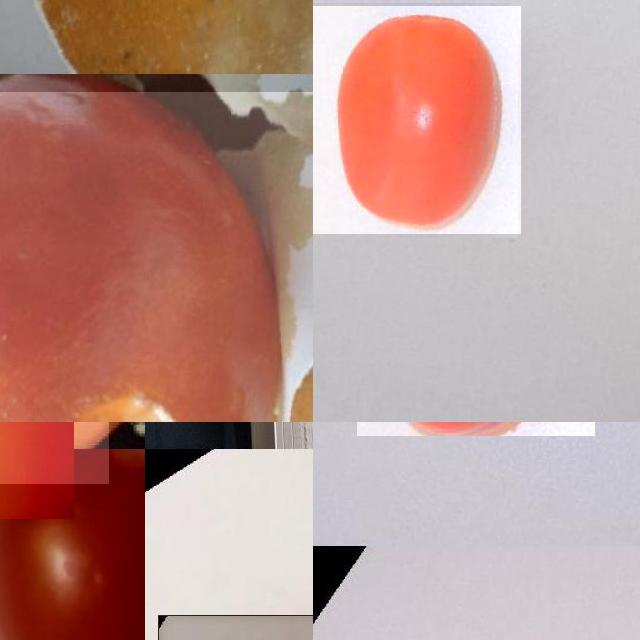0: (357, 422, 595, 436)
Fresh Tomato: (313, 6, 521, 234), (0, 449, 145, 640)
Rotten Tomato: (0, 92, 313, 422)
